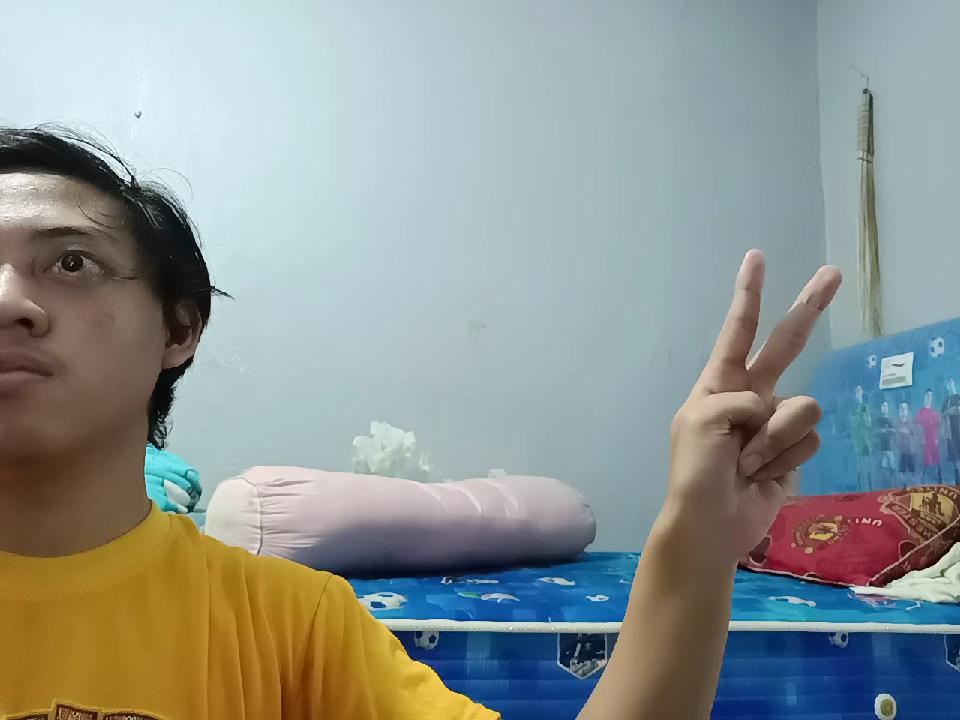scissors: (658, 240, 830, 553)
